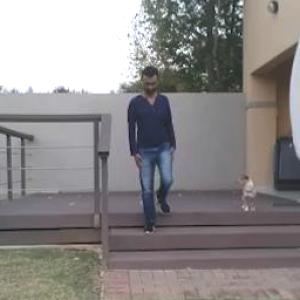follow: (129, 60, 176, 245)
